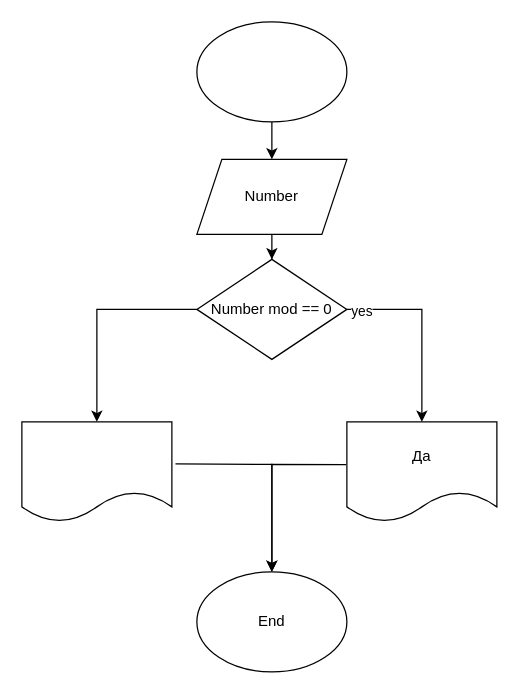
Image size: 519x694. Some labels were removed from this diagram. Here are the shapes that lost their labels. From the top down, the box of each, then its label:
(196, 21, 347, 122): START
(21, 421, 172, 522): Нет
